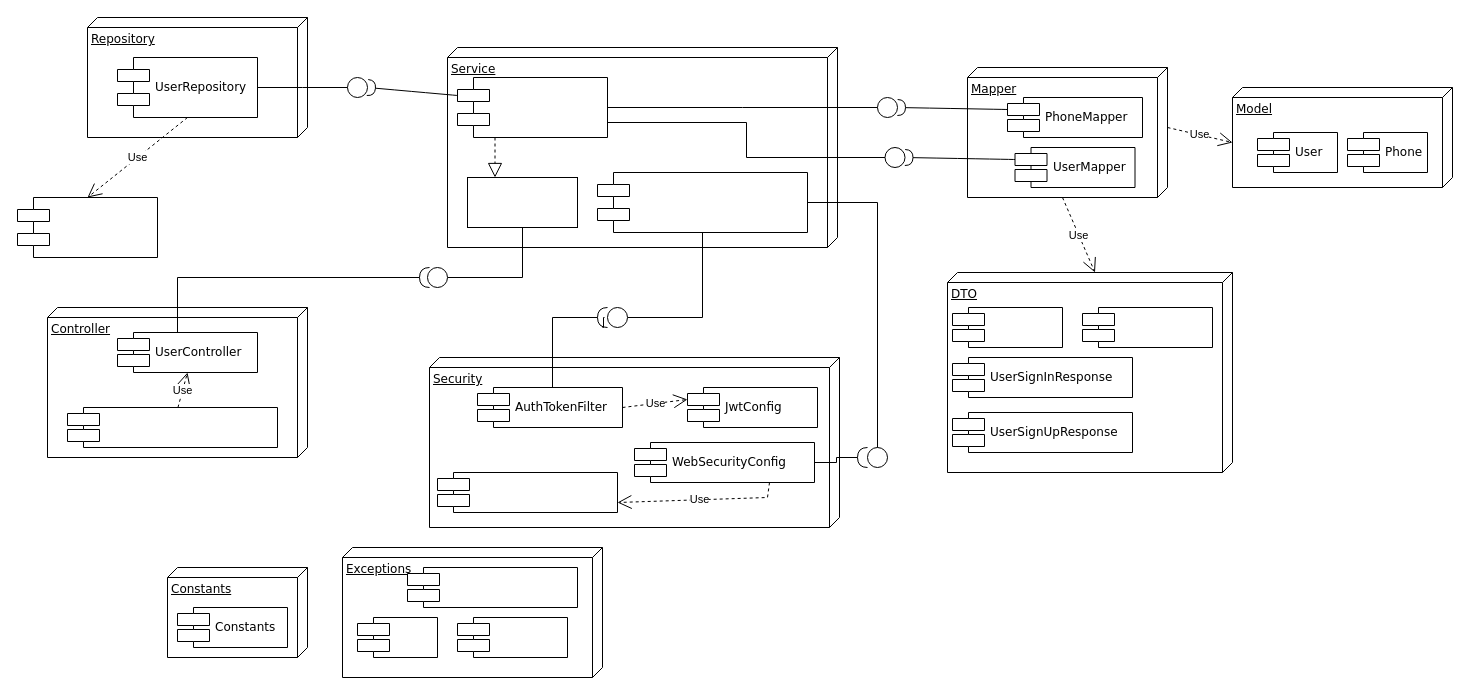
The diagram is 1470 pixels wide and 695 high, and some of its shapes have lost their labels. Here are the shapes that lost their labels. From the top down, the box of each, then its label:
(456, 76, 608, 138): UserServiceImpl
(466, 176, 578, 228): «interface» UserService
(596, 172, 808, 232): CustomUserDetailsService
(16, 196, 158, 258): h2 database
(952, 306, 1062, 348): UserPhones
(1082, 306, 1212, 348): UserRequest
(66, 406, 278, 448): GlobalExceptionsHandler
(436, 472, 618, 512): SecurityConfig
(406, 566, 578, 608): ApplicationException
(356, 616, 438, 658): Error
(456, 616, 568, 658): ErrorCodes
